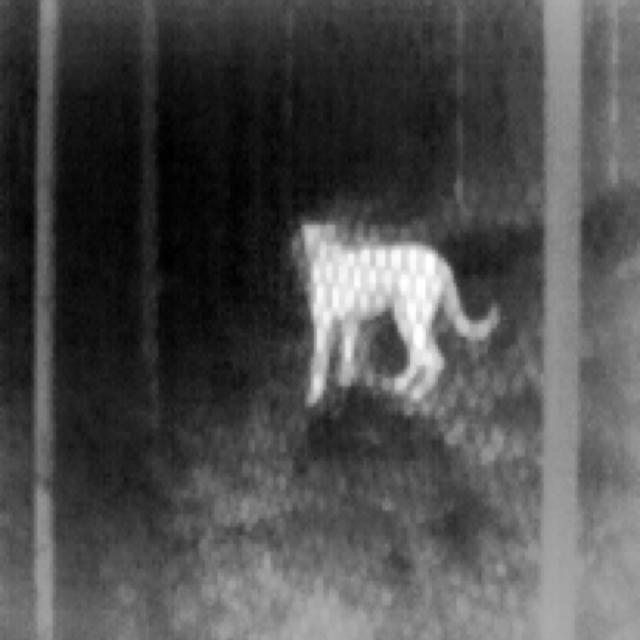cheetah: (296, 220, 499, 407)
